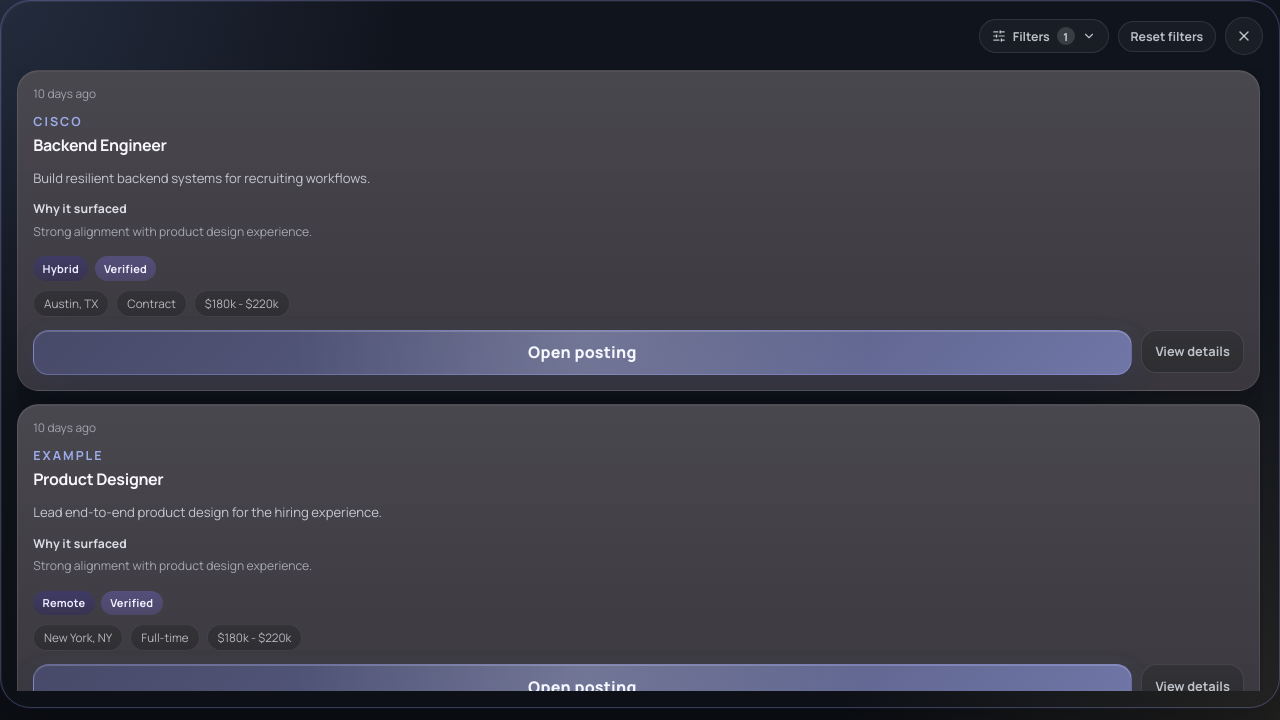
Scenario: JobsSidePanel › filters the rail locally and can reset back to the full result set
Check: the heading "Product Designer" is shown, box [33,468,163,490]
Check: the heading "Backend Engineer" is shown, box [33,134,167,156]
Click the button "Filters 1" at point(1044, 36), box [978,19,1109,53]
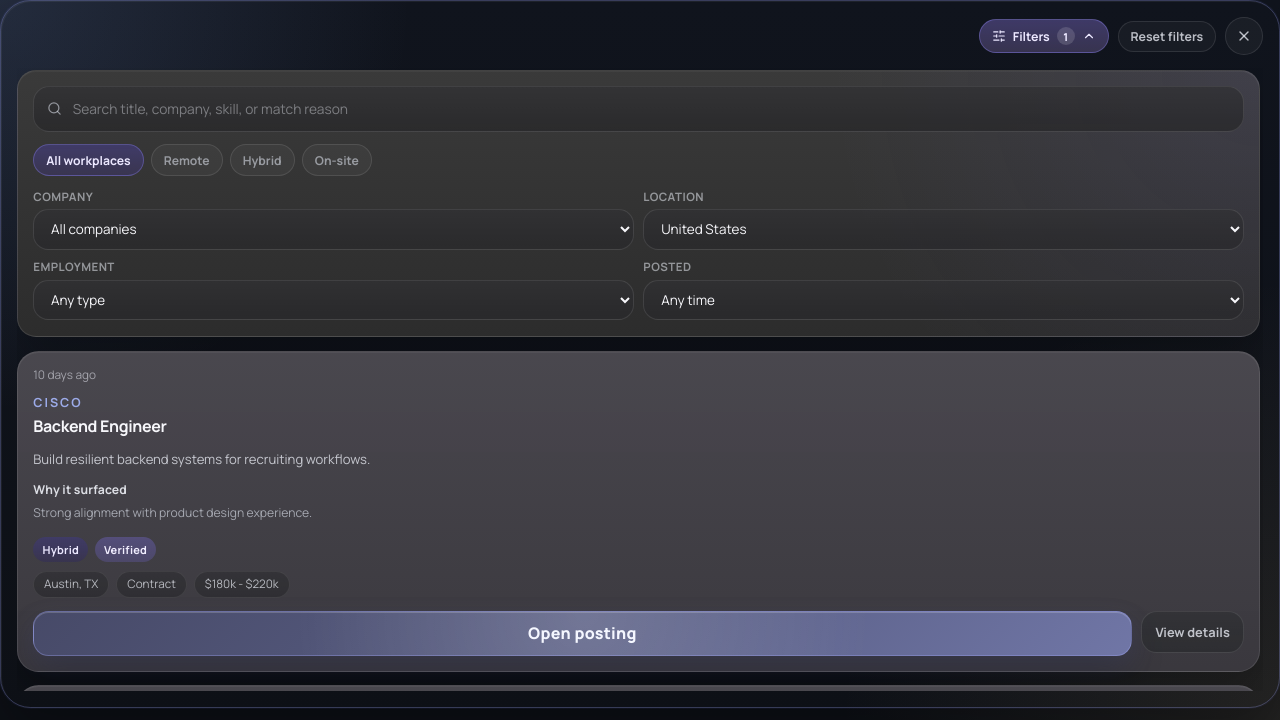
Check: the field named "Filter jobs by keyword" is shown
Type "ml" into the field named "Filter jobs by keyword" at point(650, 109), box [71,98,1230,119]
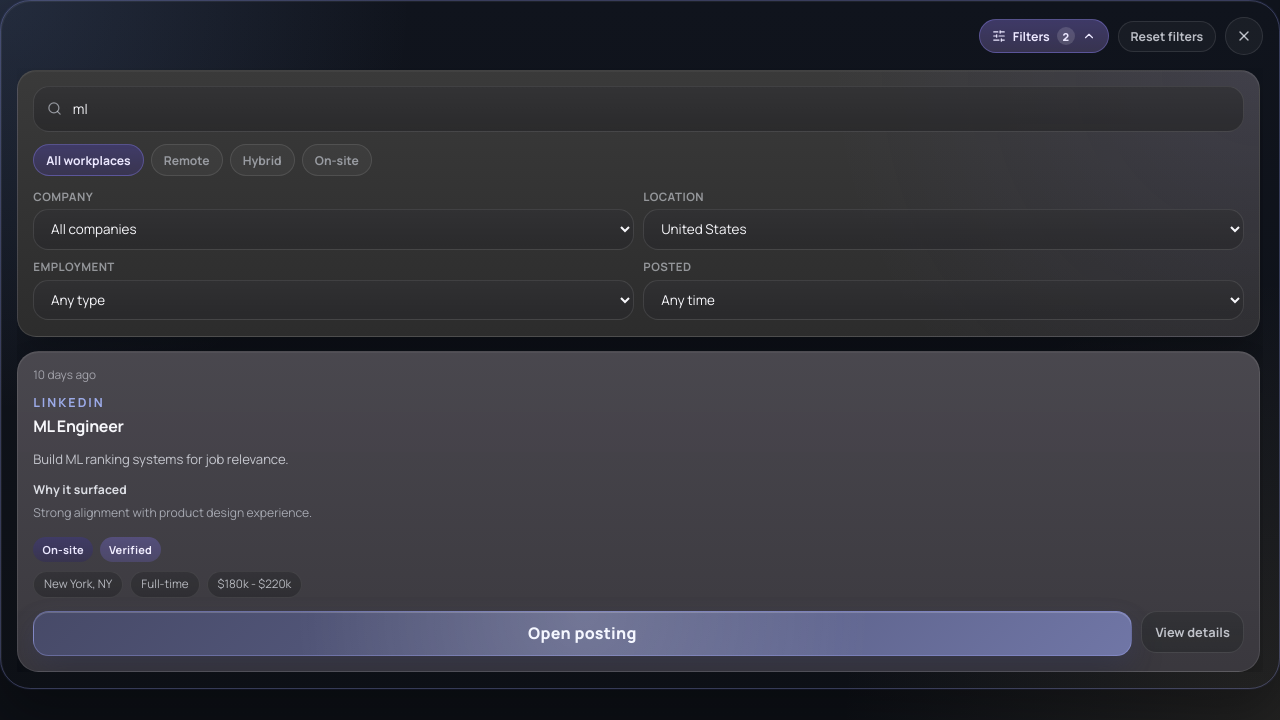
Check: the button "Product Designer" is not shown
Check: the button "Backend Engineer" is gone
Check: the heading "ML Engineer" is shown, box [33,415,124,437]
Click the button "Reset filters" at point(1167, 36), box [1118,21,1216,52]
(page scrolled)
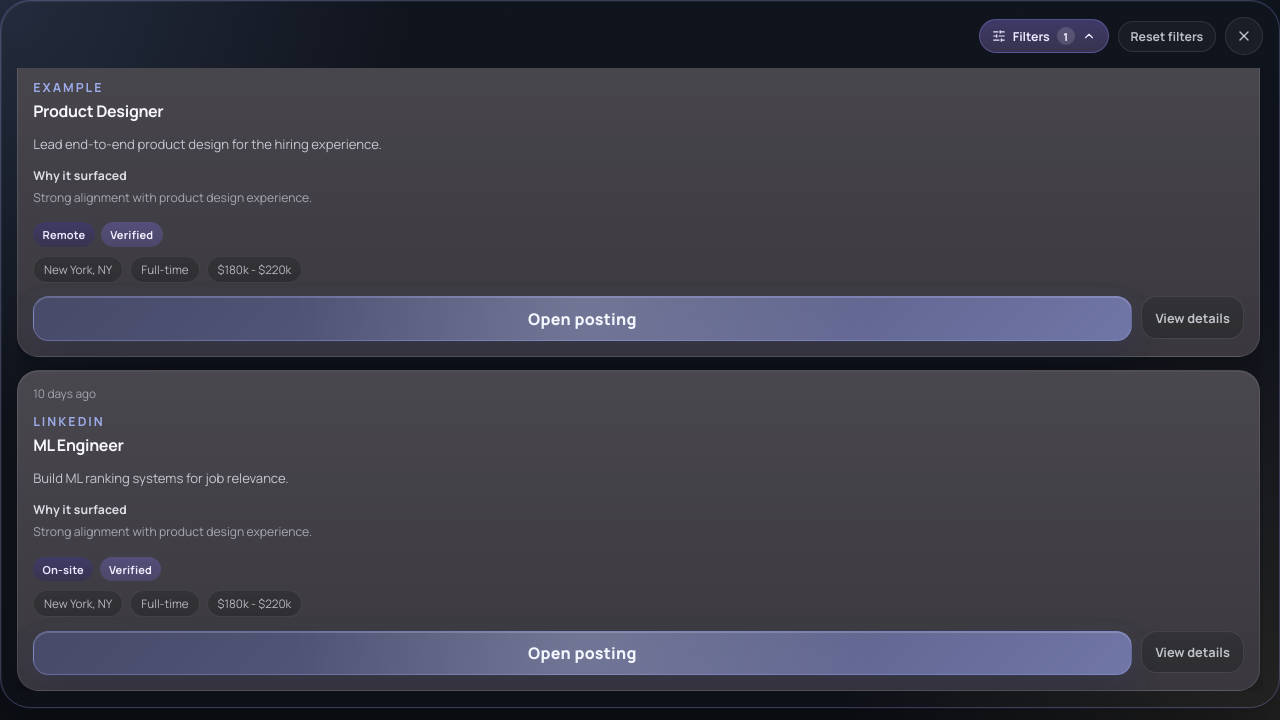
Check: the heading "ML Engineer" is shown, box [33,434,124,456]
Check: the heading "Product Designer" is shown, box [33,100,163,122]
